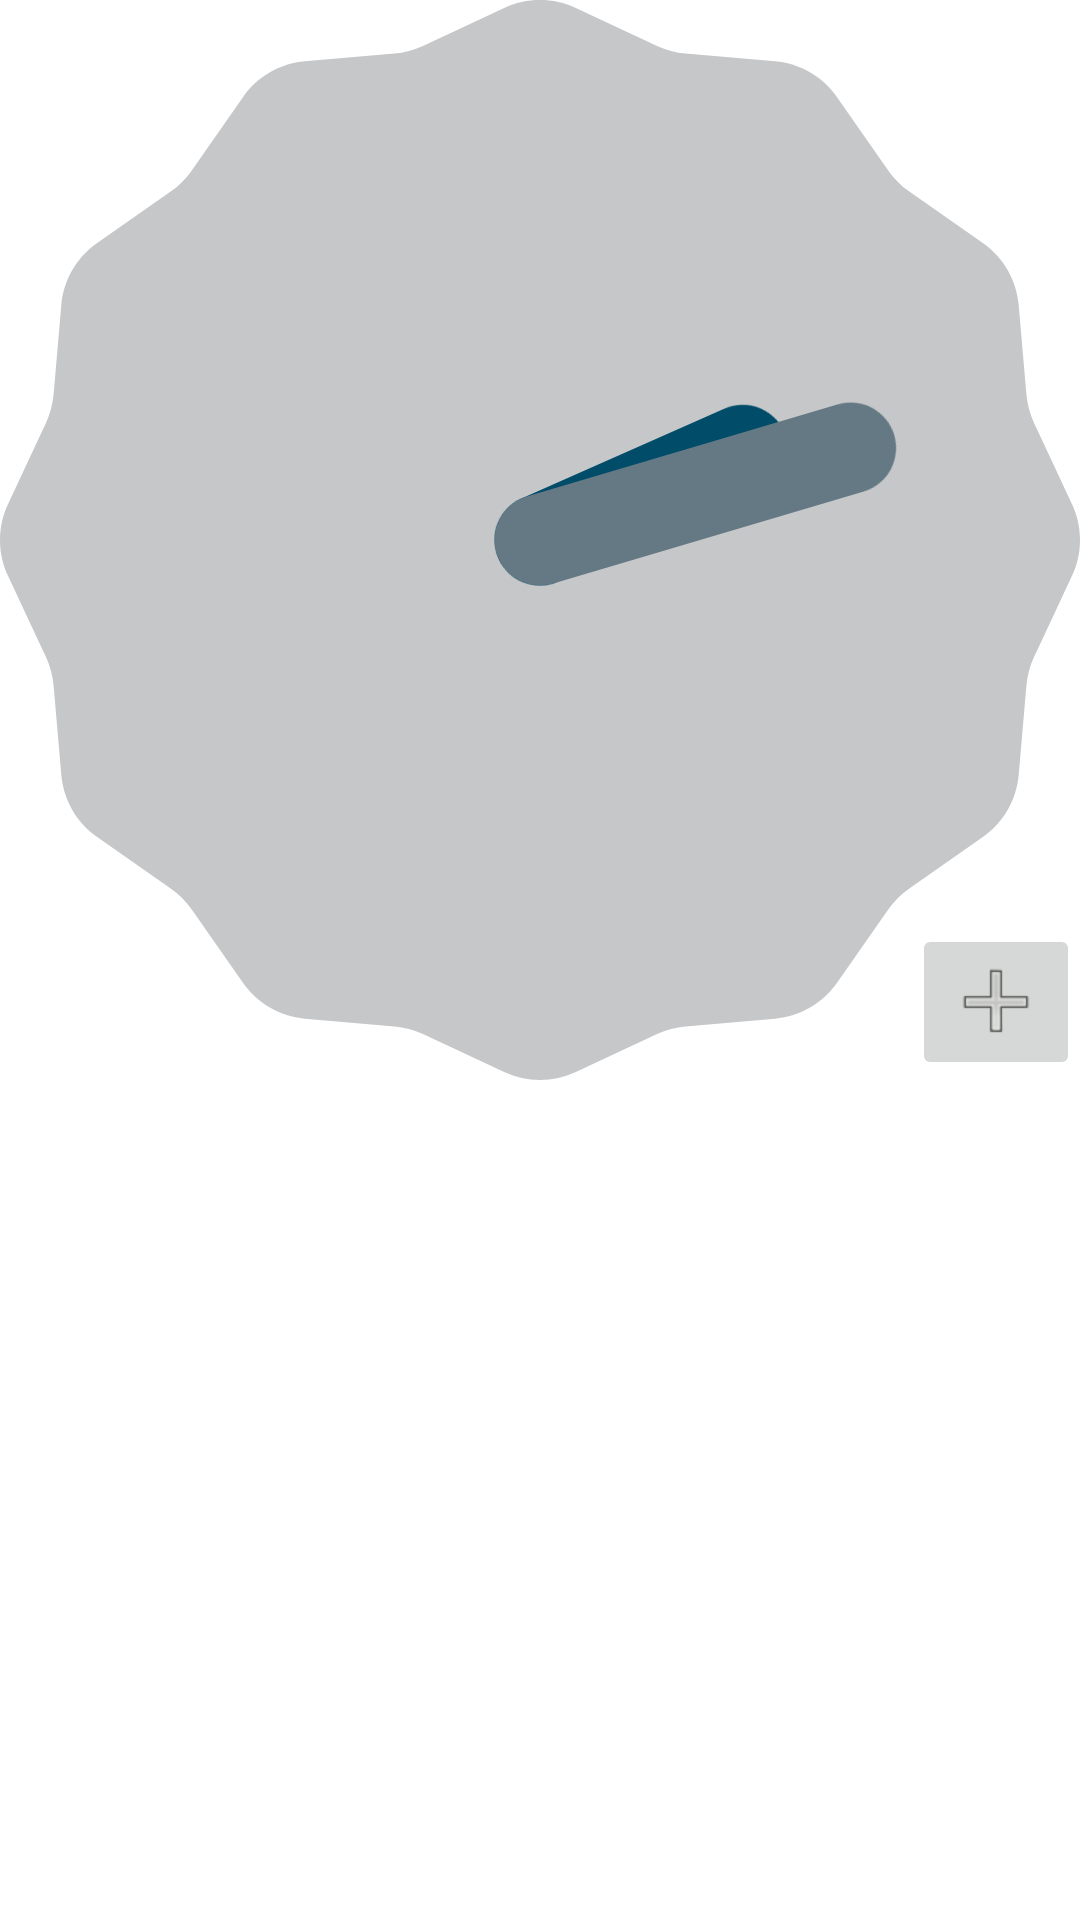

Locate icon controls on the screen. Image size 1080×1920, boxes as rect(x1, y1, x2, y2).
Add Alarm: rect(924, 942, 1068, 1062)
